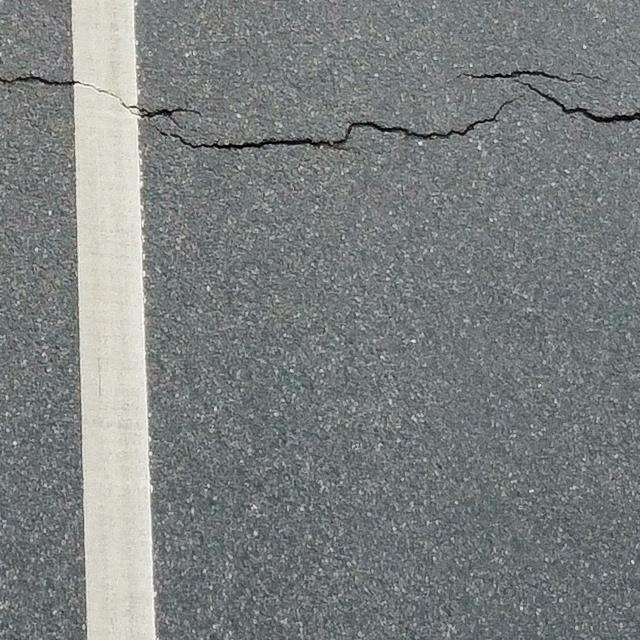TransverseCrack: (1, 69, 640, 153)
